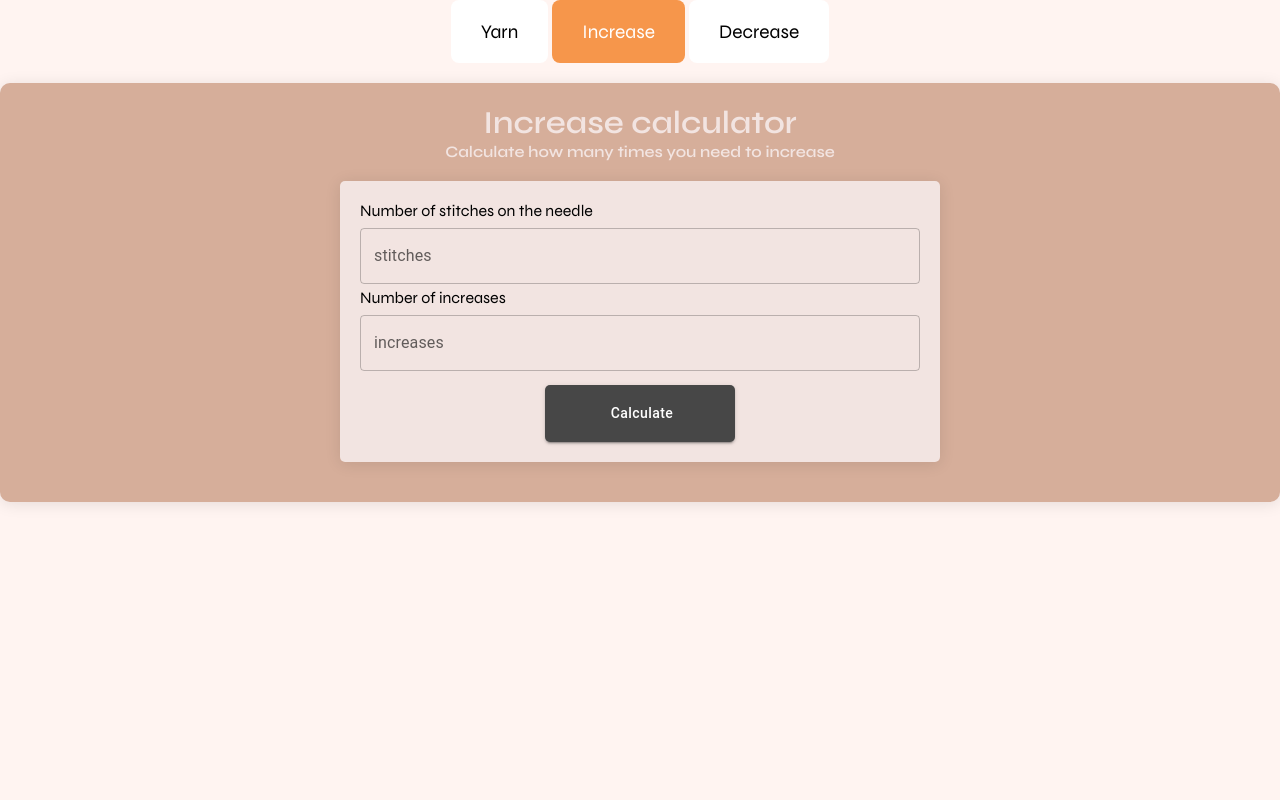
Test: Calculators › only one calculator component is displayed at a time
Click the text "Yarn".
click(500, 32)  # box [451, 0, 548, 63]
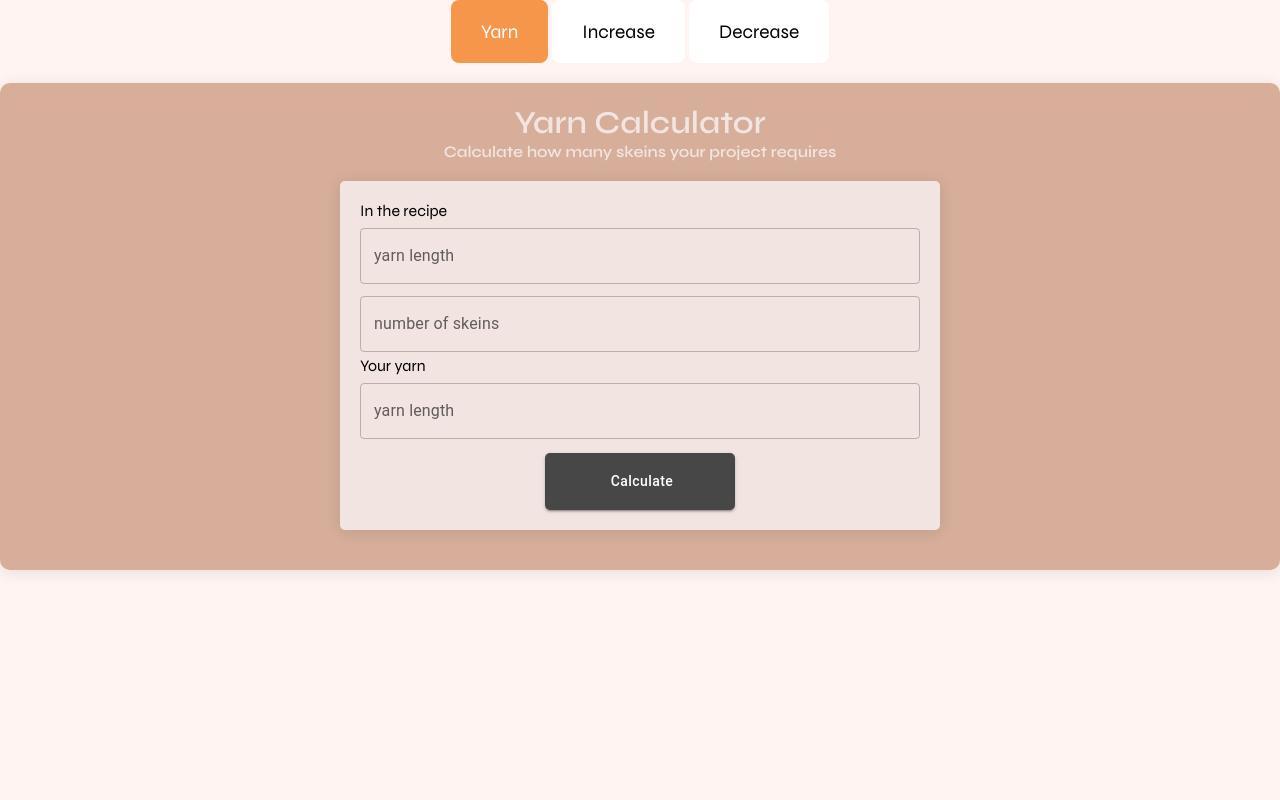
Expected: the text "Calculate how many decreases you need to make" is not shown
Expected: the heading "Calculate how many skeins your project requires" is shown, [444, 142, 836, 161]
Expected: the heading "Calculate how many times you need to increase" is gone
Click the text "Decrease".
click(759, 32)  # box [689, 0, 829, 63]
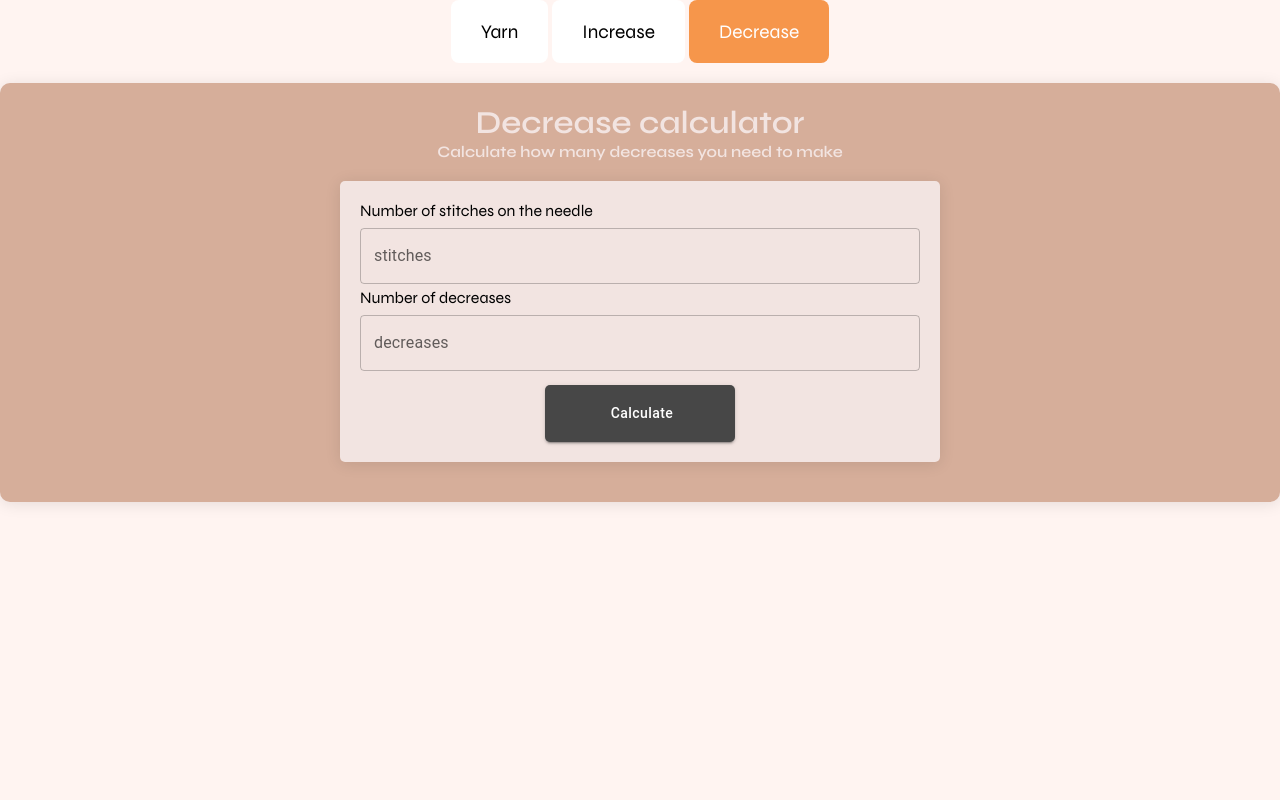
Expected: the heading "Calculate how many times you need to increase" is not shown
Expected: the heading "Calculate how many decreases you need to make" is shown, [437, 142, 843, 161]
Expected: the heading "Calculate how many skeins your project requires" is gone
